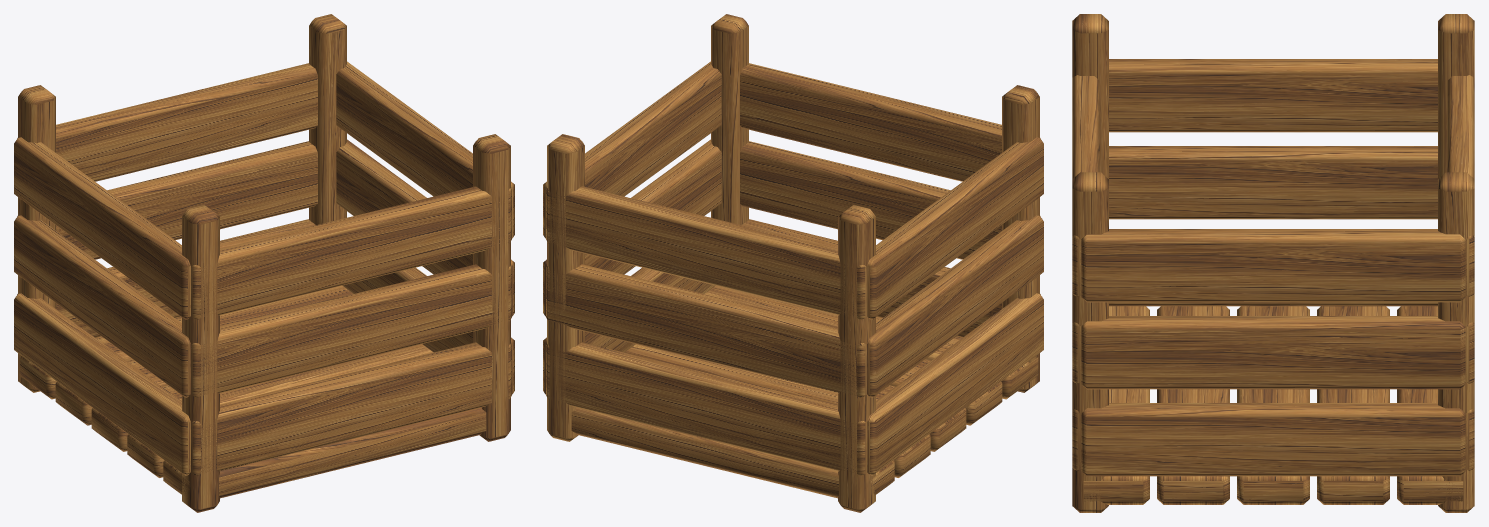
The model's file is 19_Caja_Abierta.obj.
3 renders of one model, left to right at view 1: azimuth 30°, elevation 25°; view 2: azimuth 150°, elevation 25°; view 3: azimuth 270°, elevation 25°, orthographic. The views are drawn at different scales.
Parts seen in each view (by area): view 1: 19_Caja_Abierta_Wood; view 2: 19_Caja_Abierta_Wood; view 3: 19_Caja_Abierta_Wood.
Boxes of the visible parts, x1=… form: 19_Caja_Abierta_Wood: x1=14, y1=14, x2=514, y2=512; 19_Caja_Abierta_Wood: x1=543, y1=14, x2=1043, y2=512; 19_Caja_Abierta_Wood: x1=1072, y1=14, x2=1474, y2=512.
Size of the model in its own units: 0.94 by 0.8 by 0.88.
Materials: 1 (1 with a texture image).
